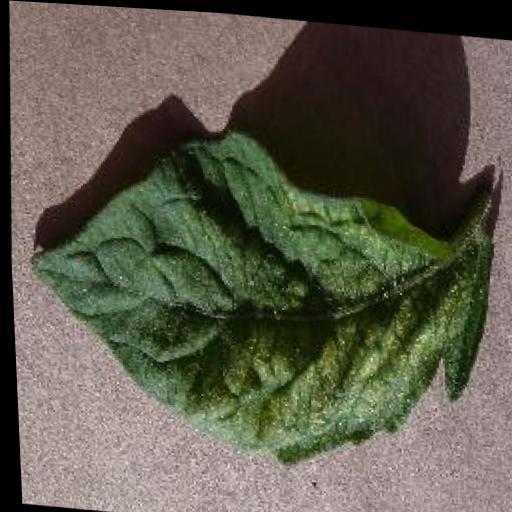Spider Mites: (14, 113, 499, 475)
